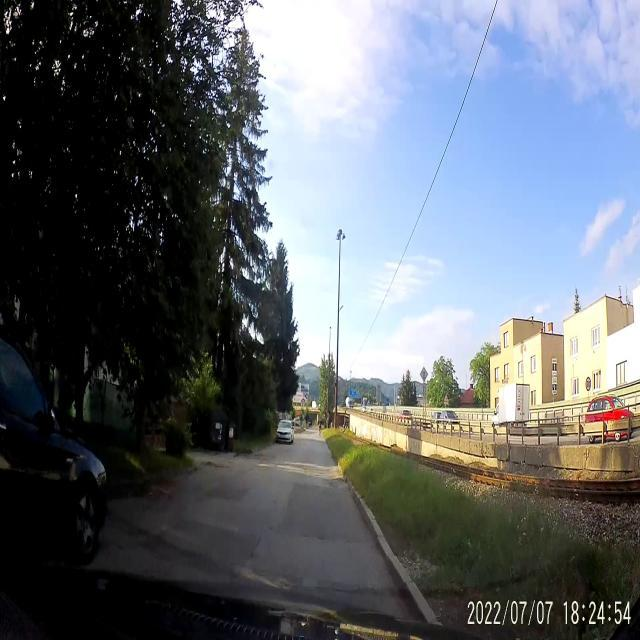Pothole: (326, 473, 346, 495)
